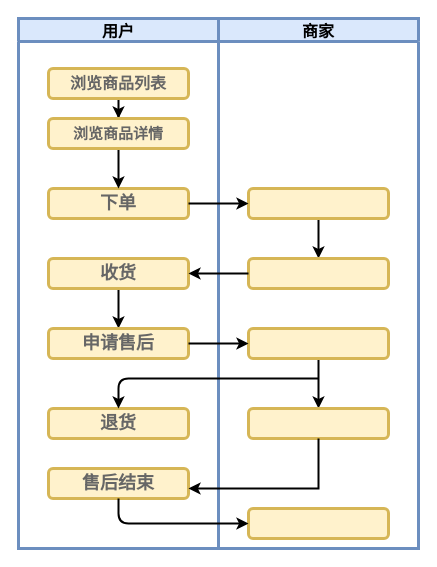
Some shapes in this 437 by 567 pixel diagram are drawn without their labels. The shapes that lost their labels are listed below. From the top down, each one's box as (x1, y1, x2, y2) in pixels, then its label:
(246, 186, 390, 220): 接单
(246, 256, 390, 290): 发货
(246, 326, 390, 360): 通过申请
(246, 406, 390, 440): 退款
(246, 506, 390, 540): 数据统计
